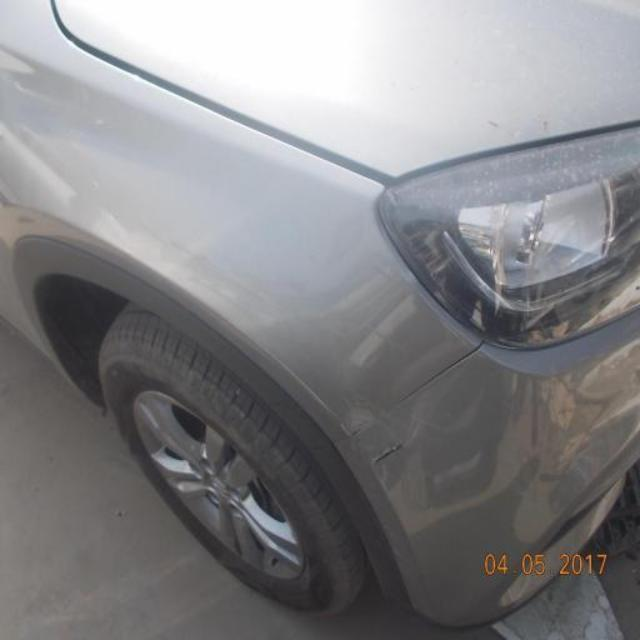scratch: (343, 398, 397, 453), (486, 116, 553, 136), (374, 440, 407, 468)
